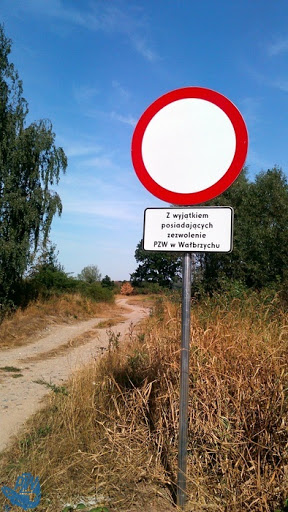no_entry_sign: (131, 87, 248, 205)
